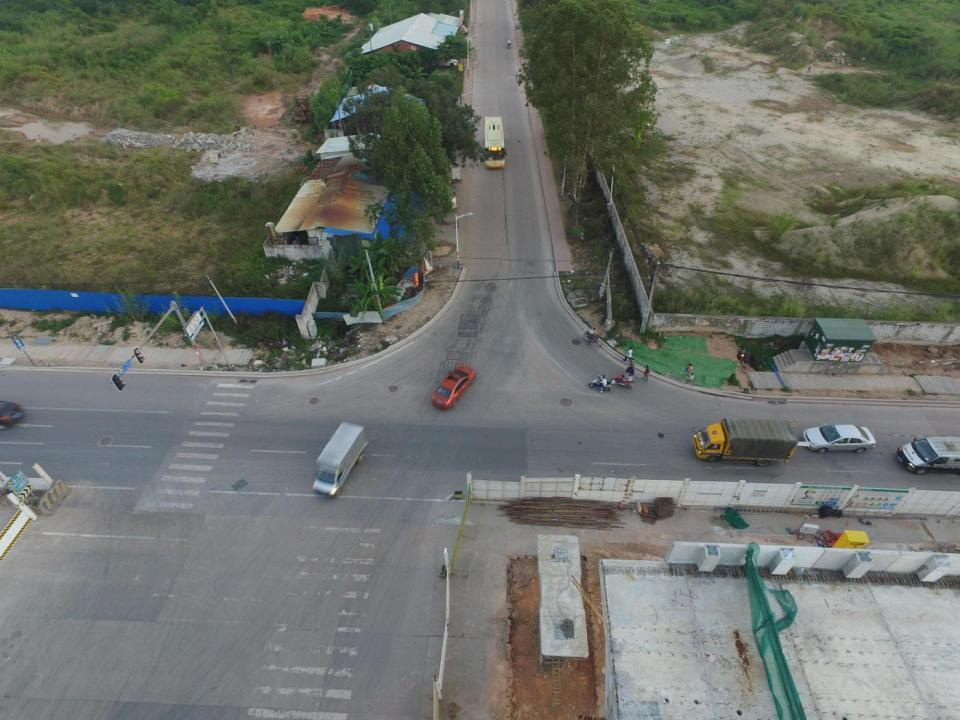car: (806, 422, 873, 456), (430, 368, 475, 410), (430, 53, 457, 68)
truck: (694, 416, 798, 468), (313, 422, 367, 495), (482, 117, 507, 172)
van: (898, 436, 960, 474)
